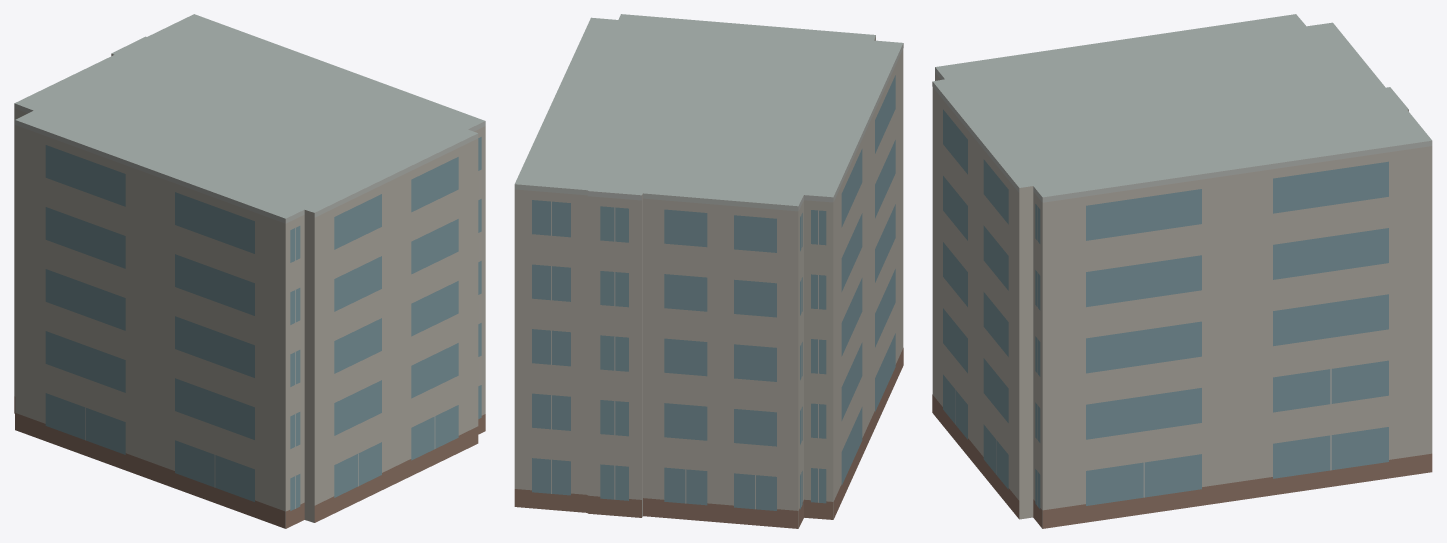
File: survey-upis-32586385.glb
3 views of the same model, side by side, from view 1: azimuth 30°, elevation 25°; view 2: azimuth 150°, elevation 25°; view 3: azimuth 270°, elevation 25° (orthographic). The views are drawn at different scales.
Visible parts, largest first — view 1: survey-upis-32586385.tmp; view 2: survey-upis-32586385.tmp; view 3: survey-upis-32586385.tmp.
Boxes of the visible parts, x1,y1,x2,y2 form: survey-upis-32586385.tmp: (14,14,485,528); survey-upis-32586385.tmp: (514,14,903,528); survey-upis-32586385.tmp: (932,14,1432,528).
Size of the model in its own units: 17.99 by 15.15 by 20.72.
